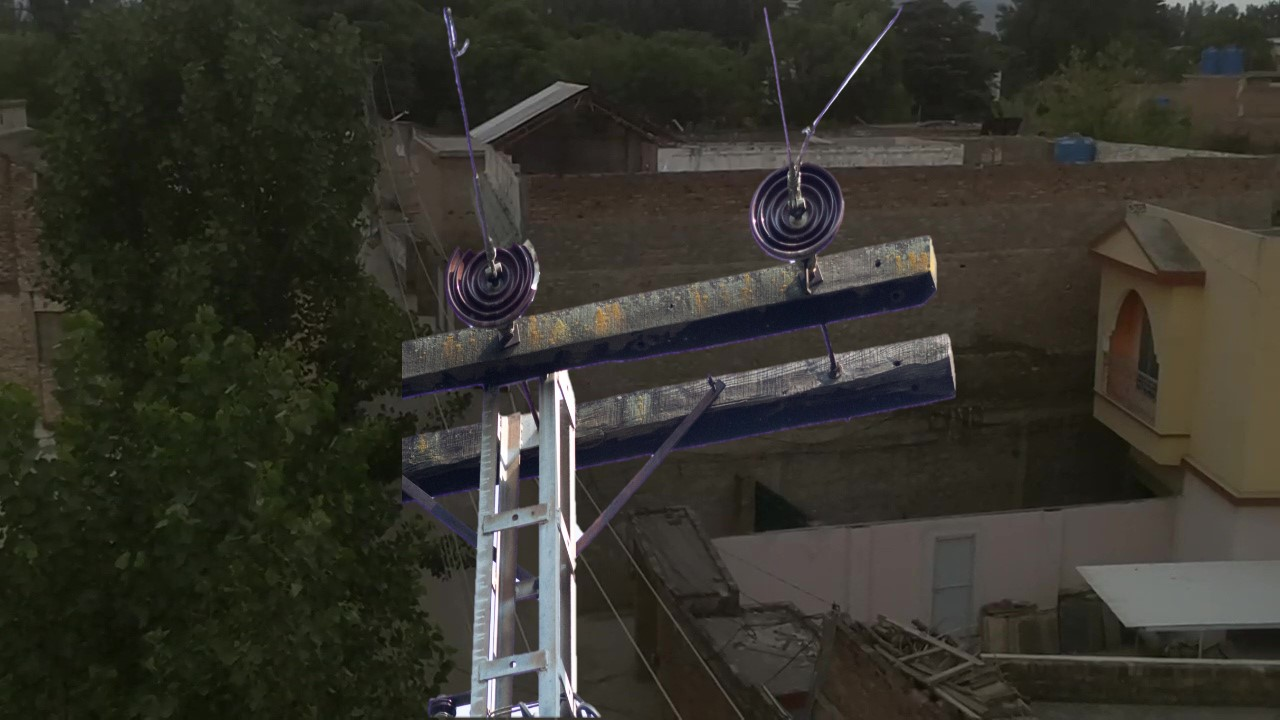defect_disc: (440, 230, 546, 339)
insulator_disc: (747, 160, 850, 259)
